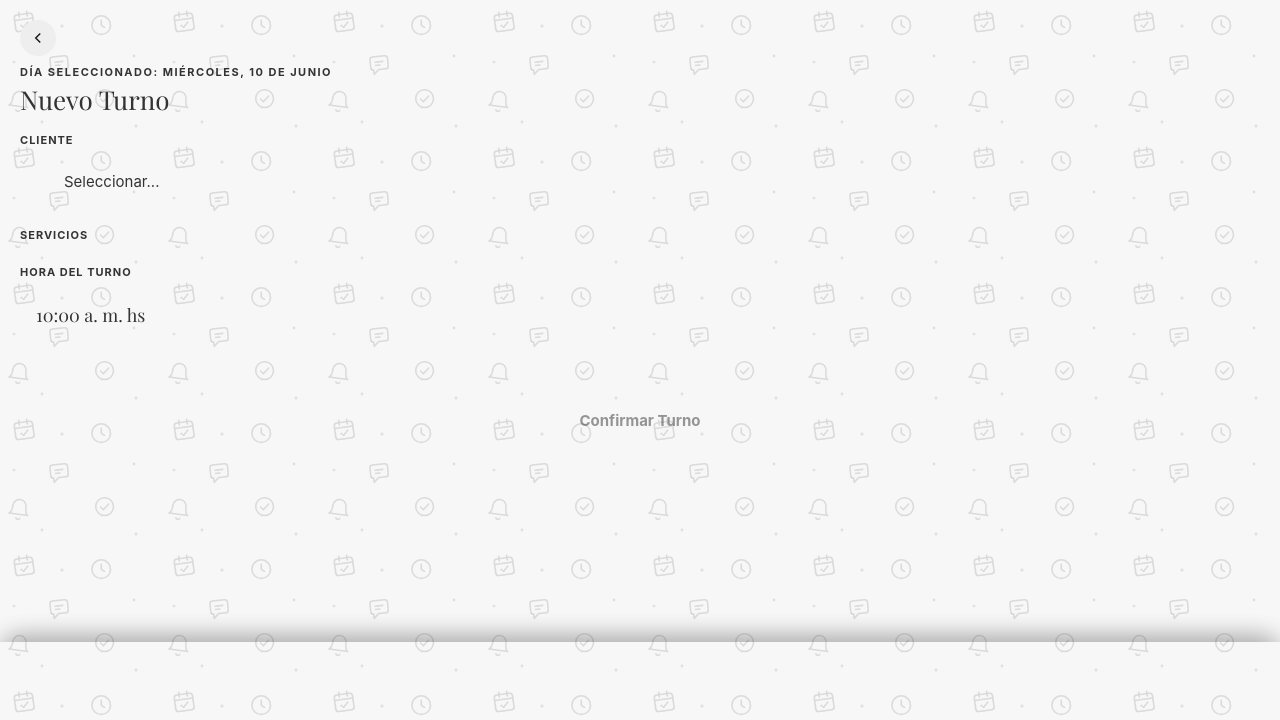
Test case: NuevoTurnoPage — un solo turno (igual que siempre) › con una promo-combo elegida el botón desaparece
The image size is (1280, 720).
What coordinates should you click on to do the following:
click the text "Seleccionar..."
I would click on:
 (112, 181)
Its box is [64,172,160,191].
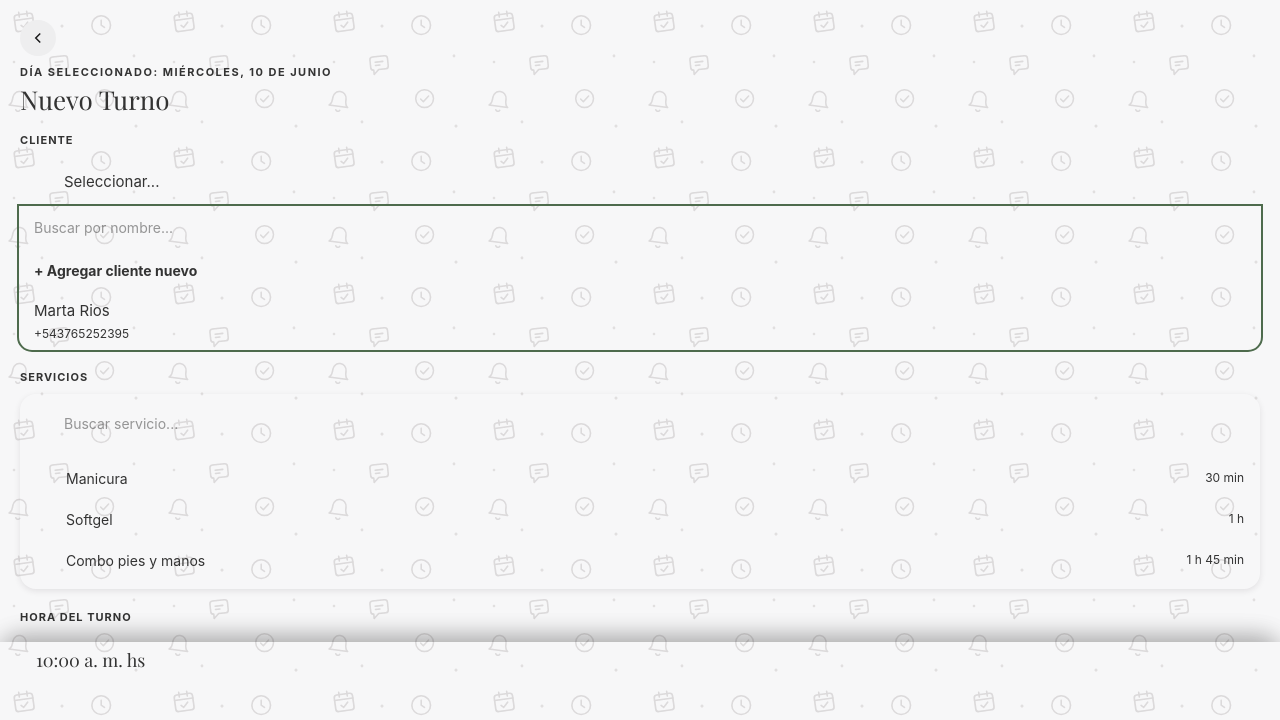
What coordinates should you click on to do the following:
click the text "Marta Rios"
I would click on:
 (72, 311)
Its box is [34,301,110,320].
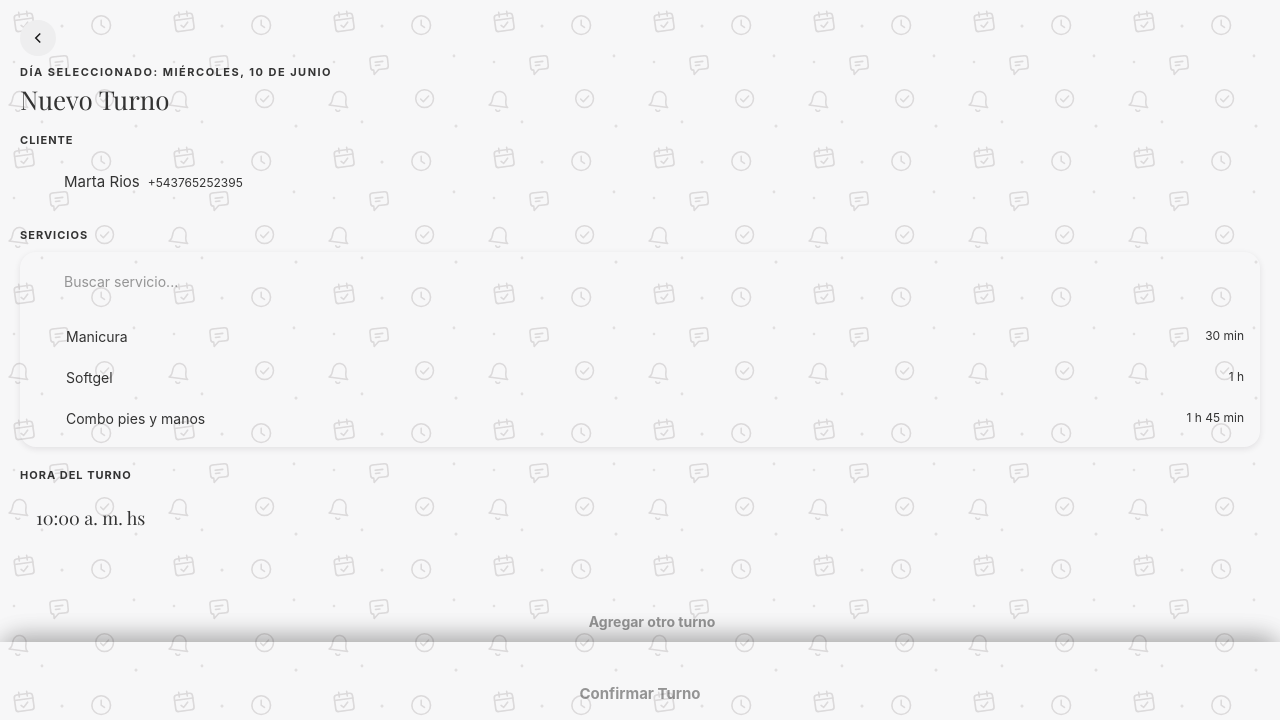
What coordinates should you click on to do the following:
click the button "Combo pies y manos 1 h 45 min"
I would click on:
 (136, 418)
Its box is [28,398,1252,439].
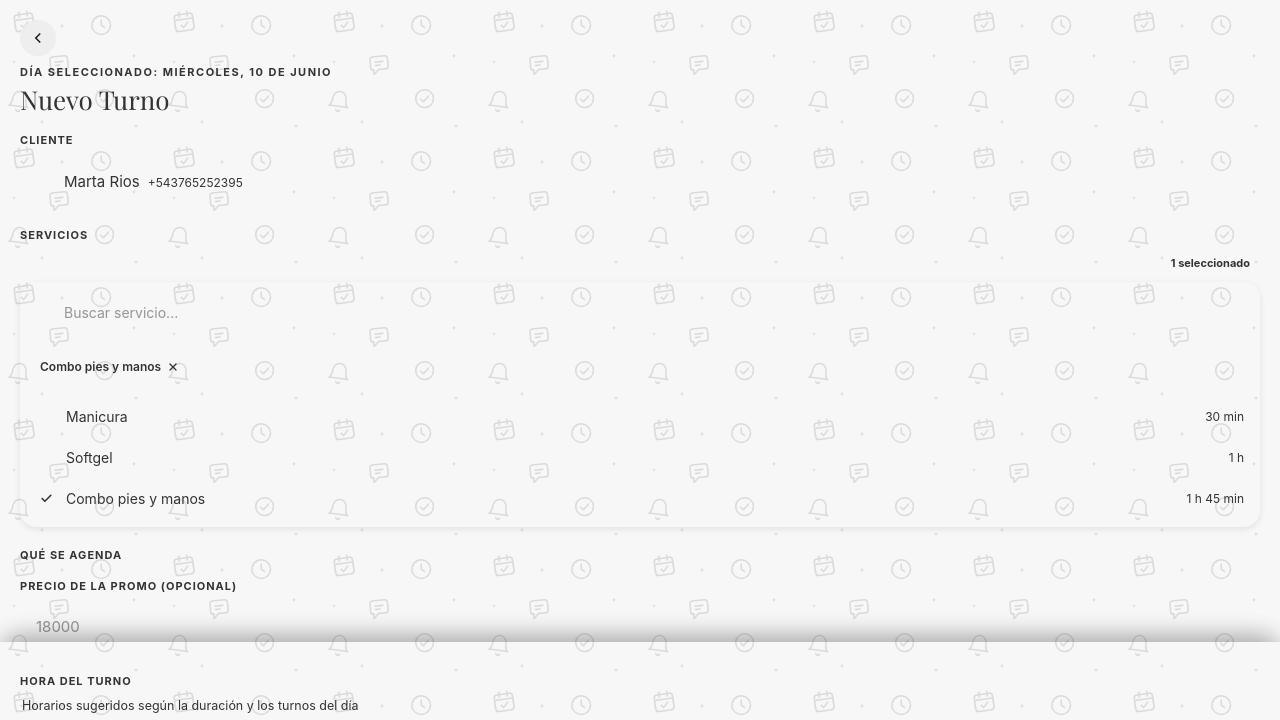
Check: the button "Agregar otro turno" is gone
